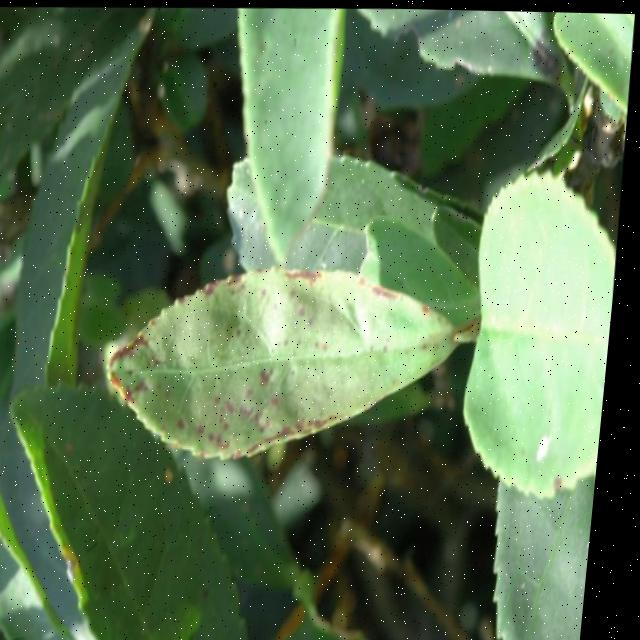Tea red scab: (114, 250, 440, 455)
